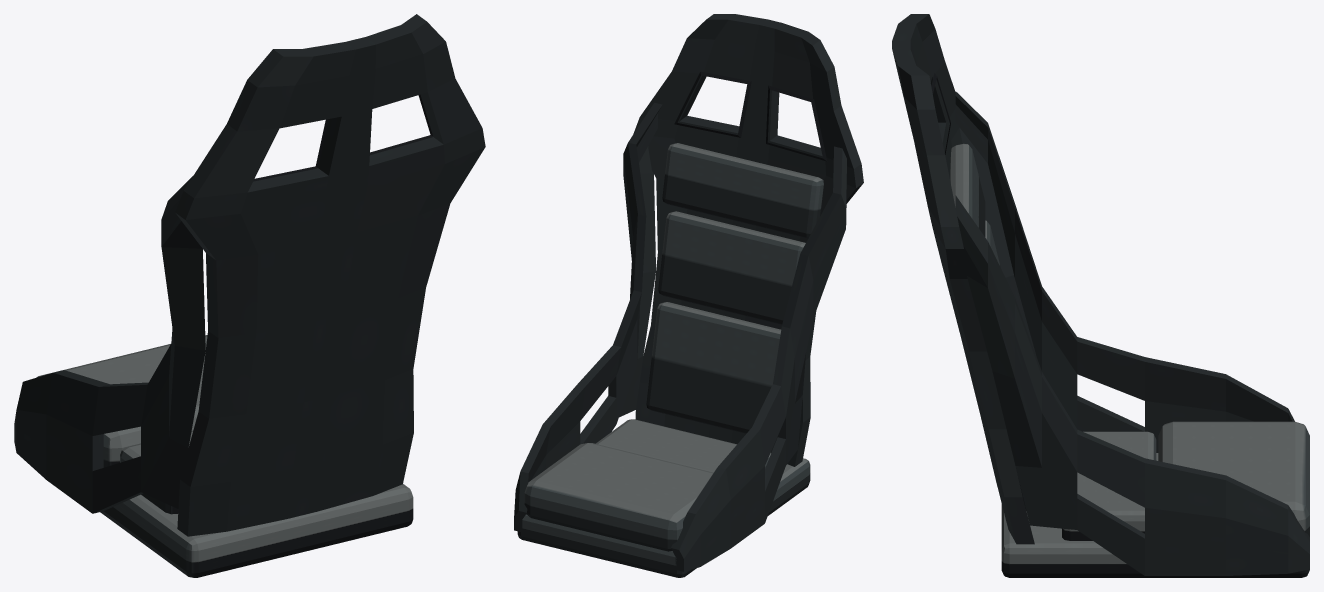
File: professional_bucket_seat.fbx
The picture shows the model from 3 angles, left to right: view 1: azimuth 30°, elevation 25°; view 2: azimuth 150°, elevation 25°; view 3: azimuth 270°, elevation 25°; orthographic projection. The views are drawn at different scales.
Visible parts, largest first — view 1: Back_Shell, High_Support_L, Seat_Pan, Thigh_Cushion; view 2: Back_Shell, High_Support_L, High_Support_R, Lumbar_Pad, Thigh_Cushion, Mid_Back_Pad, Upper_Back_Pad, Seat_Pan, Pelvis_Cushion, Shoulder_Slot_Trim_R, Shoulder_Slot_Trim_L; view 3: High_Support_R, High_Support_L, Back_Shell, Thigh_Cushion, Seat_Pan, Pelvis_Cushion, Upper_Back_Pad.
Part boxes in pixels (x1,y1,x2,y2): Back_Shell: (175, 14, 485, 536); High_Support_L: (14, 176, 205, 513); Seat_Pan: (100, 484, 413, 577); Thigh_Cushion: (36, 335, 207, 467); Back_Shell: (633, 14, 863, 466); High_Support_L: (671, 146, 846, 571); High_Support_R: (514, 102, 662, 531); Lumbar_Pad: (646, 302, 781, 440); Thigh_Cushion: (524, 443, 713, 551); Mid_Back_Pad: (658, 211, 805, 324); Upper_Back_Pad: (662, 143, 823, 238); Seat_Pan: (517, 458, 810, 577); Pelvis_Cushion: (596, 419, 770, 472); Shoulder_Slot_Trim_R: (674, 71, 751, 137); Shoulder_Slot_Trim_L: (766, 85, 827, 161); High_Support_R: (955, 195, 1309, 575); High_Support_L: (955, 91, 1294, 452); Back_Shell: (892, 14, 1034, 544); Thigh_Cushion: (1158, 421, 1309, 536); Seat_Pan: (1001, 453, 1309, 577); Pelvis_Cushion: (1062, 431, 1156, 540); Upper_Back_Pad: (950, 143, 985, 236).
Size of the model in its own units: 56.4 by 99.5 by 77.23.
Materials: 1 (1 with a texture image).
